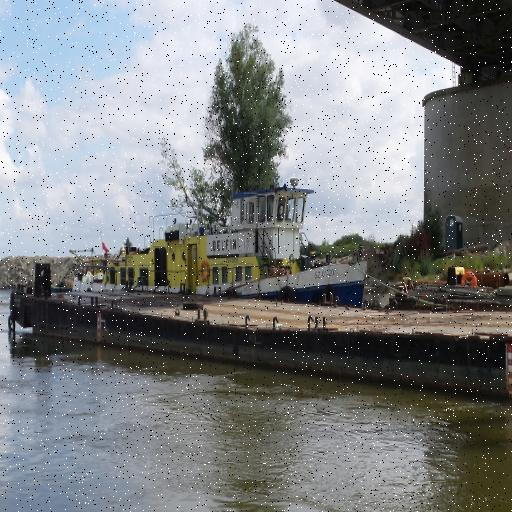tugboat: (68, 164, 371, 370)
